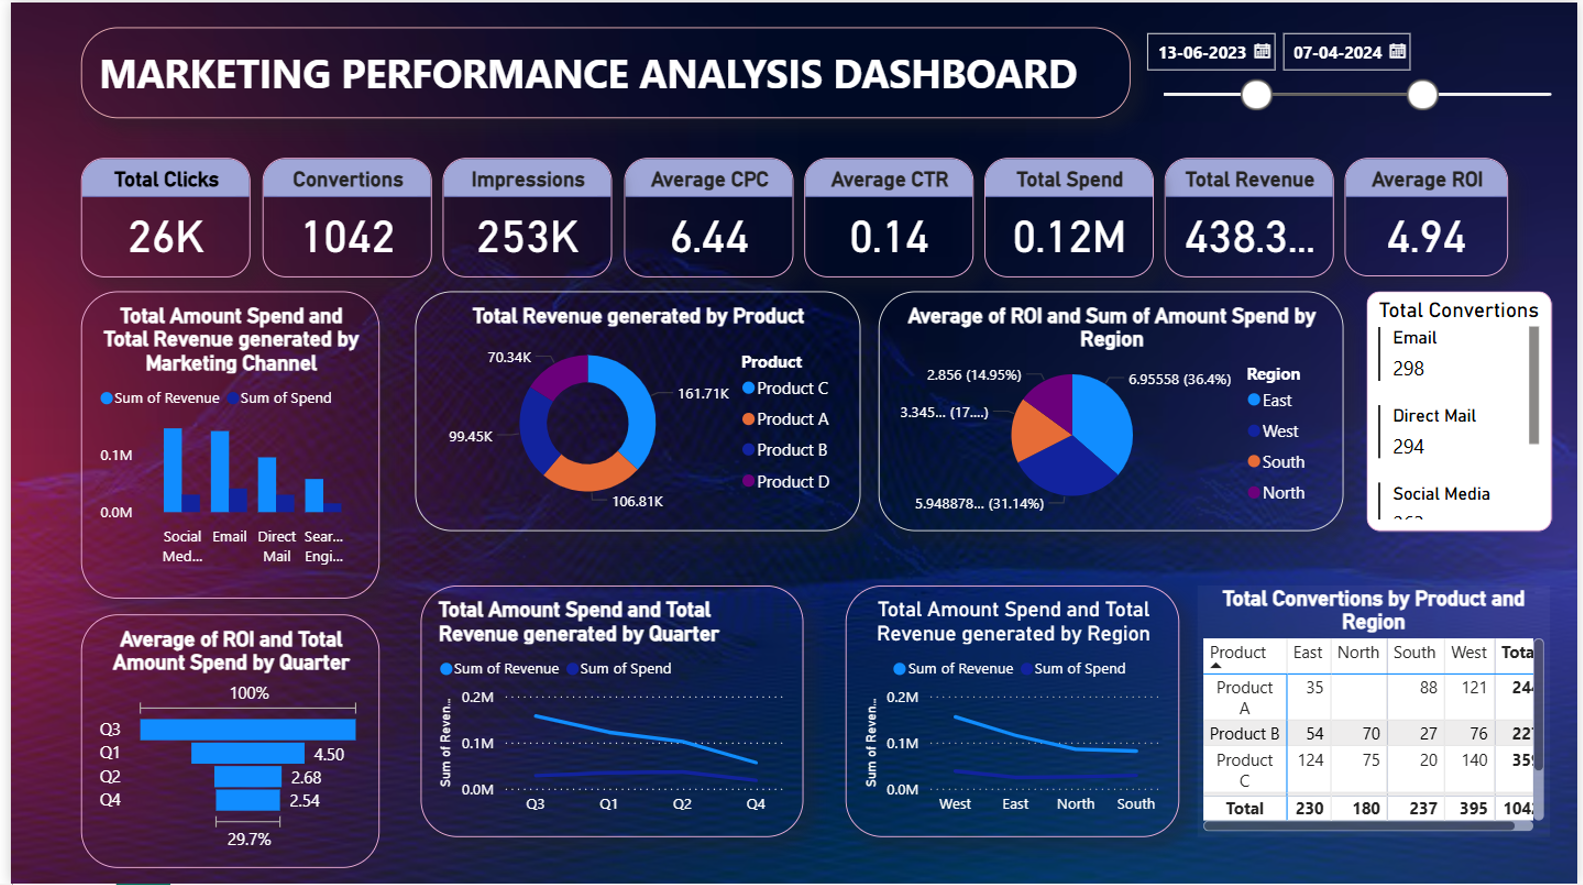

Layout of this report page (visuals, bound fields, positions):
{"tool":"powerbi","page":{"name":"Page 1","canvas":[1280,720],"ordinal":0},"visuals":[{"type":"card","title":"Total Clicks","fields":{"Values":["Sum(Marketing_Analytics_Dataset_by_Slidescope (1).Clicks)"]},"box":[57.2,126.9,138.5,97.4],"z":0},{"type":"card","title":"Convertions","fields":{"Values":["Sum(Marketing_Analytics_Dataset_by_Slidescope (1).Conversions)"]},"box":[205.9,126.9,138.5,97.4],"z":1000},{"type":"card","title":"Average CPC","fields":{"Values":["Avg(Marketing_Analytics_Dataset_by_Slidescope (1).CPC)"]},"box":[500.8,126.9,138.5,97.4],"z":2000},{"type":"card","title":"Average CTR","fields":{"Values":["Avg(Marketing_Analytics_Dataset_by_Slidescope (1).CTR)"]},"box":[648.2,126.9,138.5,97.4],"z":3000},{"type":"card","title":"Impressions","fields":{"Values":["Sum(Marketing_Analytics_Dataset_by_Slidescope (1).Impressions)"]},"box":[353.3,126.9,138.5,97.4],"z":4000},{"type":"card","title":"Total Revenue","fields":{"Values":["Sum(Marketing_Analytics_Dataset_by_Slidescope (1).Revenue)"]},"box":[943.1,126.9,138.5,97.4],"z":5000},{"type":"card","title":"Average ROI","fields":{"Values":["Avg(Marketing_Analytics_Dataset_by_Slidescope (1).ROI)"]},"box":[1090.4,127,133.8,97.2],"z":6000},{"type":"card","title":"Total Spend","fields":{"Values":["Sum(Marketing_Analytics_Dataset_by_Slidescope (1).Spend)"]},"box":[795.6,126.9,138.5,97.4],"z":7000},{"type":"slicer","fields":{"Values":["Marketing_Analytics_Dataset_by_Slidescope (1).Date"]},"box":[915.3,19.2,365,86.4],"z":8000},{"type":"textbox","box":[57.7,19.7,857.7,74.6],"z":9000},{"type":"clusteredColumnChart","title":"Total Amount Spend and Total Revenue generated by Marketing Channel","fields":{"Category":["Marketing_Analytics_Dataset_by_Slidescope (1).Marketing_Channel"],"Y":["Sum(Marketing_Analytics_Dataset_by_Slidescope (1).Revenue)","Sum(Marketing_Analytics_Dataset_by_Slidescope (1).Spend)"]},"box":[57.6,236,244.3,251.1],"z":10000},{"type":"lineChart","title":"Total Amount Spend and Total Revenue generated by Region","fields":{"Y":["Sum(Marketing_Analytics_Dataset_by_Slidescope (1).Revenue)","Sum(Marketing_Analytics_Dataset_by_Slidescope (1).Spend)"],"Category":["Marketing_Analytics_Dataset_by_Slidescope (1).Region"]},"box":[682,476.2,273.1,205.8],"z":11000},{"type":"donutChart","title":"Total Revenue generated by Product","fields":{"Category":["Marketing_Analytics_Dataset_by_Slidescope (1).Product"],"Y":["Sum(Marketing_Analytics_Dataset_by_Slidescope (1).Revenue)"]},"box":[330.7,236,363.6,196.2],"z":12000},{"type":"lineChart","title":"Total Amount Spend and Total Revenue generated by Quarter","fields":{"Y":["Sum(Marketing_Analytics_Dataset_by_Slidescope (1).Revenue)","Sum(Marketing_Analytics_Dataset_by_Slidescope (1).Spend)"],"Category":["Marketing_Analytics_Dataset_by_Slidescope (1).Quarter"]},"box":[334.8,476.2,312.9,205.8],"z":13000},{"type":"pieChart","title":"Average of ROI and Sum of Amount Spend by Region","fields":{"Category":["Marketing_Analytics_Dataset_by_Slidescope (1).Region"],"Y":["Avg(Marketing_Analytics_Dataset_by_Slidescope (1).ROI)"]},"box":[709.4,236,380.1,196.2],"z":14000},{"type":"funnel","title":"Average of ROI and Total Amount Spend by Quarter","fields":{"Category":["Marketing_Analytics_Dataset_by_Slidescope (1).Quarter"],"Y":["Avg(Marketing_Analytics_Dataset_by_Slidescope (1).ROI)"]},"box":[57.6,499.5,244.3,207.2],"z":15000},{"type":"multiRowCard","title":"Total Convertions","fields":{"Values":["Sum(Marketing_Analytics_Dataset_by_Slidescope (1).Conversions)","Marketing_Analytics_Dataset_by_Slidescope (1).Marketing_Channel"]},"box":[1107.4,236,150.9,196.2],"z":16000},{"type":"pivotTable","title":"Total Convertions by Product and Region","fields":{"Rows":["Marketing_Analytics_Dataset_by_Slidescope (1).Product"],"Columns":["Marketing_Analytics_Dataset_by_Slidescope (1).Region"],"Values":["Sum(Marketing_Analytics_Dataset_by_Slidescope (1).Conversions)"]},"box":[970.2,476.2,288.2,205.8],"z":17000}]}

Visuals, with their boxes in screenshot pixels (x1, y1, x2, y2), scaled from the page's 1280x720 canvas onto the 1583x885 screenshot:
"Total Clicks" card: (x1=71, y1=156, x2=242, y2=276)
"Convertions" card: (x1=255, y1=156, x2=426, y2=276)
"Average CPC" card: (x1=619, y1=156, x2=791, y2=276)
"Average CTR" card: (x1=802, y1=156, x2=973, y2=276)
"Impressions" card: (x1=437, y1=156, x2=608, y2=276)
"Total Revenue" card: (x1=1166, y1=156, x2=1338, y2=276)
"Average ROI" card: (x1=1349, y1=156, x2=1514, y2=276)
"Total Spend" card: (x1=984, y1=156, x2=1155, y2=276)
slicer - Marketing_Analytics_Dataset_by_Slidescope (1).Date: (x1=1132, y1=24, x2=1582, y2=130)
textbox: (x1=71, y1=24, x2=1132, y2=116)
"Total Amount Spend and Total Revenue generated by Marketing Channel" clusteredColumnChart: (x1=71, y1=290, x2=373, y2=599)
"Total Amount Spend and Total Revenue generated by Region" lineChart: (x1=843, y1=585, x2=1181, y2=838)
"Total Revenue generated by Product" donutChart: (x1=409, y1=290, x2=859, y2=531)
"Total Amount Spend and Total Revenue generated by Quarter" lineChart: (x1=414, y1=585, x2=801, y2=838)
"Average of ROI and Sum of Amount Spend by Region" pieChart: (x1=877, y1=290, x2=1347, y2=531)
"Average of ROI and Total Amount Spend by Quarter" funnel: (x1=71, y1=614, x2=373, y2=869)
"Total Convertions" multiRowCard: (x1=1370, y1=290, x2=1556, y2=531)
"Total Convertions by Product and Region" pivotTable: (x1=1200, y1=585, x2=1556, y2=838)
